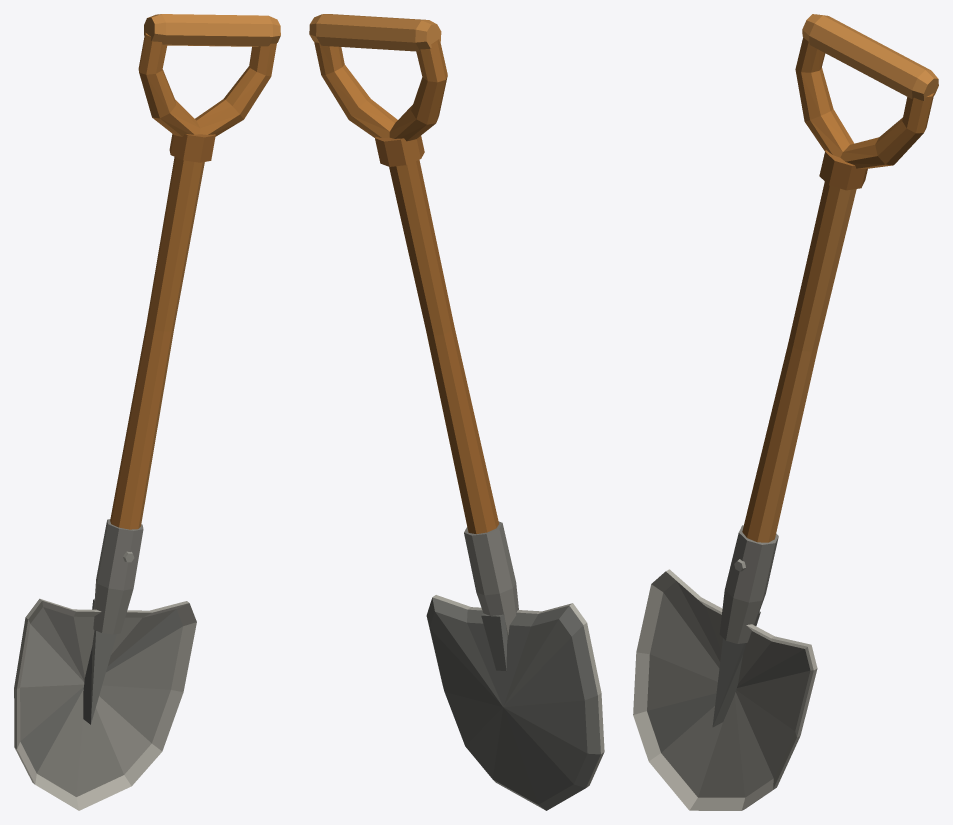
File: Shovel in Soil.glb
3 renders of one model, left to right at view 1: azimuth 30°, elevation 25°; view 2: azimuth 150°, elevation 25°; view 3: azimuth 330°, elevation 25°, orthographic. The views are drawn at different scales.
Visible parts, largest first — view 1: Shovel in Soil; view 2: Shovel in Soil; view 3: Shovel in Soil.
Part boxes in pixels (left/top/right/bottom): Shovel in Soil: left=14, top=14, right=280, bottom=810; Shovel in Soil: left=309, top=14, right=604, bottom=810; Shovel in Soil: left=633, top=14, right=938, bottom=810.
Size of the model in its own units: 0.5465 by 1.46 by 0.1108.
